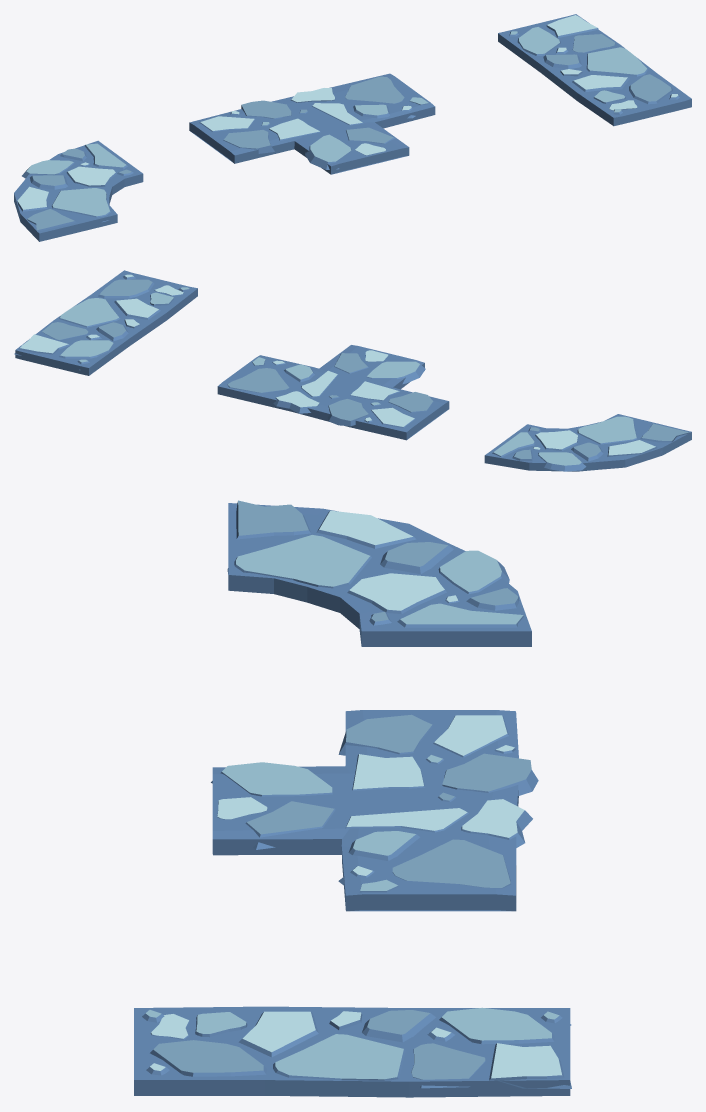
Rendered from Road_Parts (3).fbx.
3 renders of one model, top to bottom at view 1: azimuth 30°, elevation 25°; view 2: azimuth 150°, elevation 25°; view 3: azimuth 270°, elevation 25°, orthographic. The views are drawn at different scales.
Parts seen in each view (by area): view 1: Road_Tree_Ice, Road_Strait_Ice, Road_Corner_Ice; view 2: Road_Tree_Ice, Road_Strait_Ice, Road_Corner_Ice; view 3: Road_Tree_Ice, Road_Strait_Ice, Road_Corner_Ice.
Boxes of the visible parts, x1,y1,x2,y2 form: Road_Tree_Ice: (189,73,435,174); Road_Strait_Ice: (498,14,691,126); Road_Corner_Ice: (14,140,143,241); Road_Tree_Ice: (217,345,449,440); Road_Strait_Ice: (14,270,197,375); Road_Corner_Ice: (484,414,691,471); Road_Tree_Ice: (211,710,538,911); Road_Strait_Ice: (134,1006,571,1097); Road_Corner_Ice: (227,500,531,646).
Bounding box in the file's own units: 15.71 × 0.2654 × 5.02.
